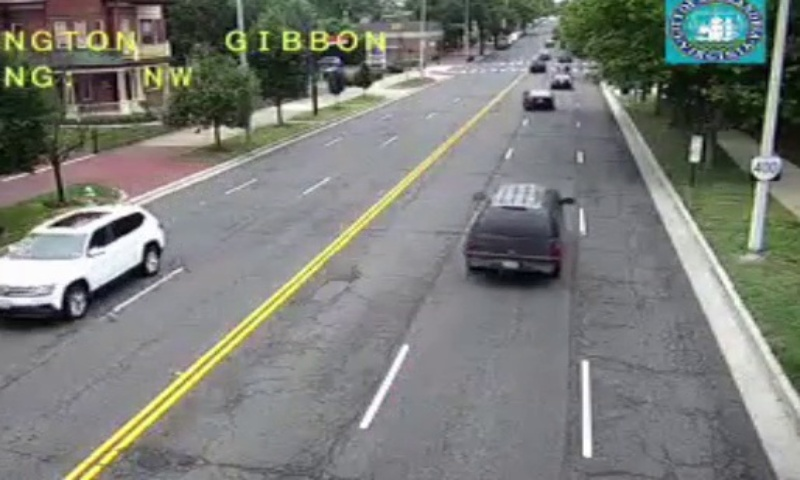car: (463, 183, 560, 275), (521, 87, 555, 111)
